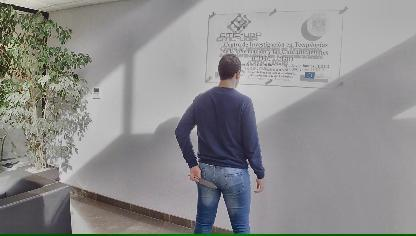knife: (186, 170, 218, 189)
